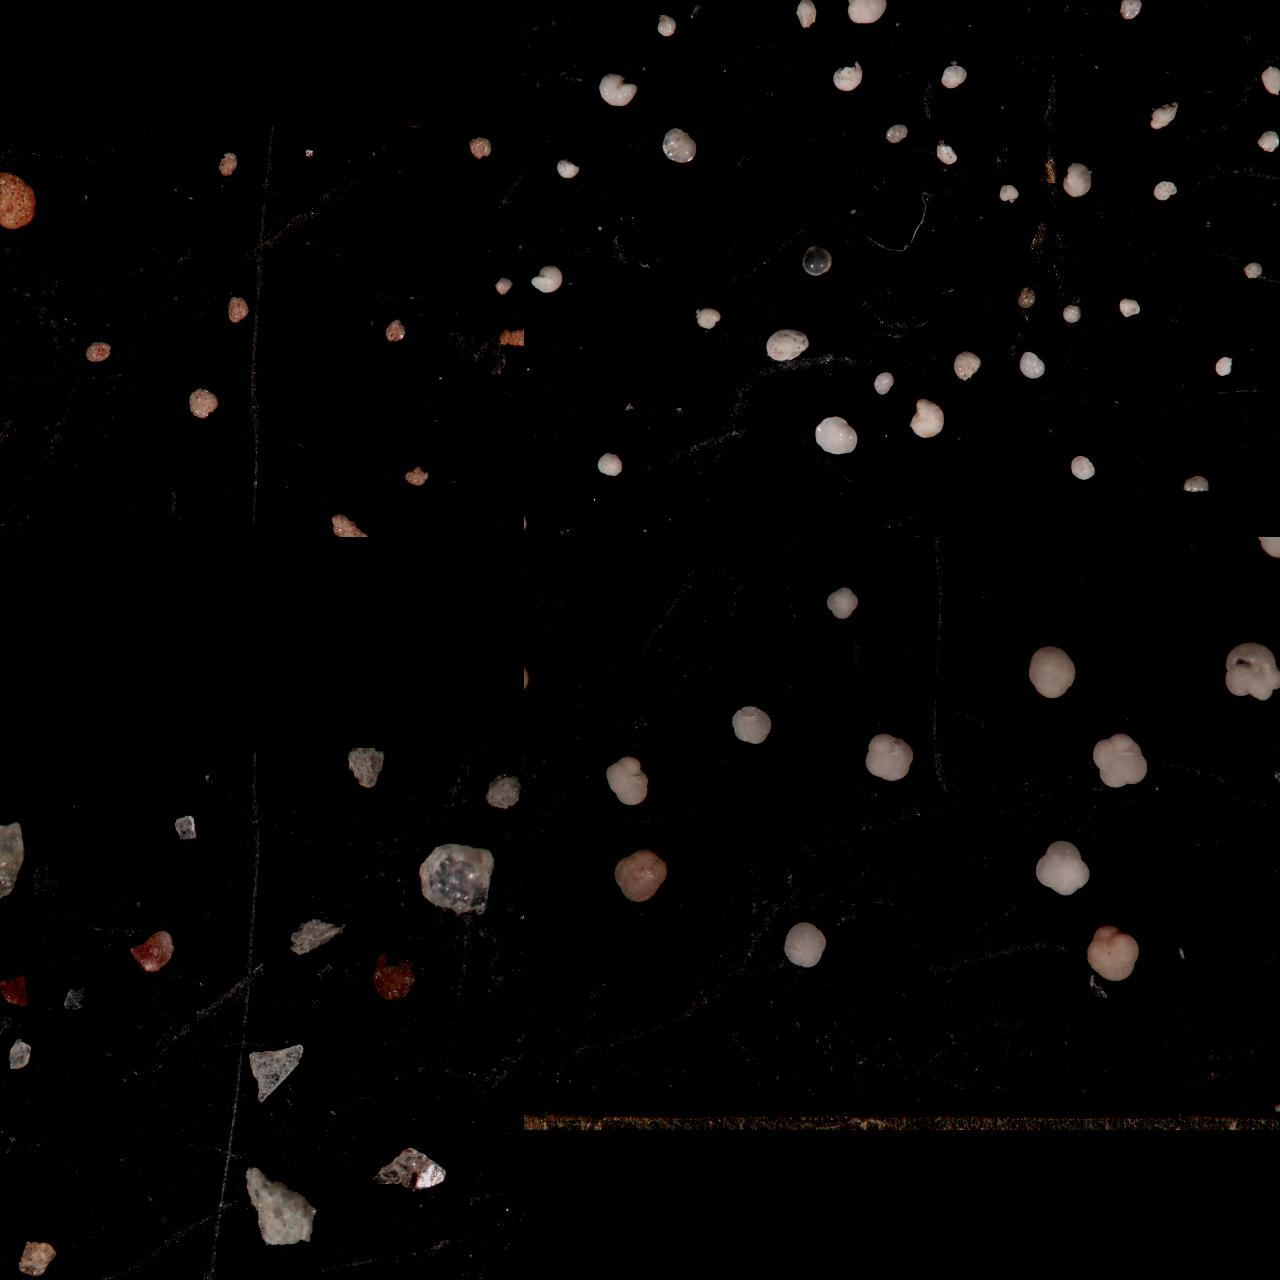Sediment: (243, 1164, 318, 1246), (416, 840, 496, 917), (245, 1042, 306, 1104), (372, 1145, 449, 1189), (0, 821, 38, 910), (287, 917, 347, 955), (372, 952, 418, 1001), (129, 930, 175, 973), (346, 748, 386, 789), (16, 1240, 60, 1278), (485, 770, 520, 810), (0, 879, 22, 937), (0, 973, 30, 1007), (0, 792, 22, 835), (6, 1036, 34, 1069), (0, 790, 22, 828), (172, 813, 200, 842), (0, 1009, 18, 1051), (0, 1141, 22, 1172), (62, 988, 88, 1012), (0, 1169, 19, 1200), (0, 1115, 19, 1146)
agglutinated: (0, 171, 38, 229), (0, 474, 30, 530), (331, 513, 386, 537), (189, 387, 219, 417), (226, 297, 250, 324), (499, 326, 524, 350), (469, 136, 493, 159), (0, 275, 18, 308), (403, 467, 430, 486), (86, 340, 113, 360), (384, 319, 407, 341), (218, 152, 238, 176), (0, 485, 18, 511), (0, 244, 18, 268), (493, 277, 512, 293)
calcareous: (524, 5, 574, 86), (815, 415, 857, 455), (765, 329, 810, 363), (908, 399, 946, 437), (599, 72, 638, 105), (662, 125, 697, 162), (1062, 162, 1094, 198), (844, 0, 890, 23), (832, 61, 864, 93), (1148, 101, 1182, 129), (803, 245, 833, 275), (952, 352, 982, 381), (531, 265, 563, 293), (1019, 349, 1048, 379), (597, 450, 624, 476), (940, 64, 968, 89), (694, 306, 722, 329), (1259, 64, 1280, 95), (1071, 455, 1097, 479), (795, 0, 816, 29), (1153, 179, 1178, 203), (1117, 298, 1143, 319), (524, 215, 542, 244), (1185, 475, 1212, 493), (1258, 130, 1280, 152), (655, 14, 678, 36), (874, 372, 896, 395), (556, 158, 580, 178), (1119, 0, 1143, 20), (935, 144, 959, 164), (885, 124, 908, 144), (524, 0, 545, 21), (1017, 286, 1037, 307), (1242, 261, 1266, 279), (1214, 356, 1235, 375), (1062, 305, 1083, 324), (999, 184, 1020, 203), (794, 0, 826, 11), (524, 365, 537, 390), (524, 508, 535, 533), (1220, 0, 1245, 11), (524, 325, 535, 349), (524, 196, 535, 219), (1070, 0, 1092, 11), (622, 0, 645, 11), (524, 418, 535, 440)
planktic: (1033, 837, 1094, 897), (1224, 640, 1280, 702), (1091, 730, 1149, 790), (1085, 922, 1141, 981), (613, 847, 672, 903), (1027, 644, 1077, 700), (524, 632, 561, 706), (864, 731, 915, 781), (604, 754, 652, 806), (783, 921, 829, 968), (730, 704, 774, 744), (824, 585, 862, 621), (1151, 537, 1199, 560), (554, 537, 597, 557), (888, 537, 930, 556), (777, 537, 818, 554), (524, 537, 549, 561), (795, 537, 822, 551), (568, 537, 598, 549), (1009, 537, 1033, 549)
